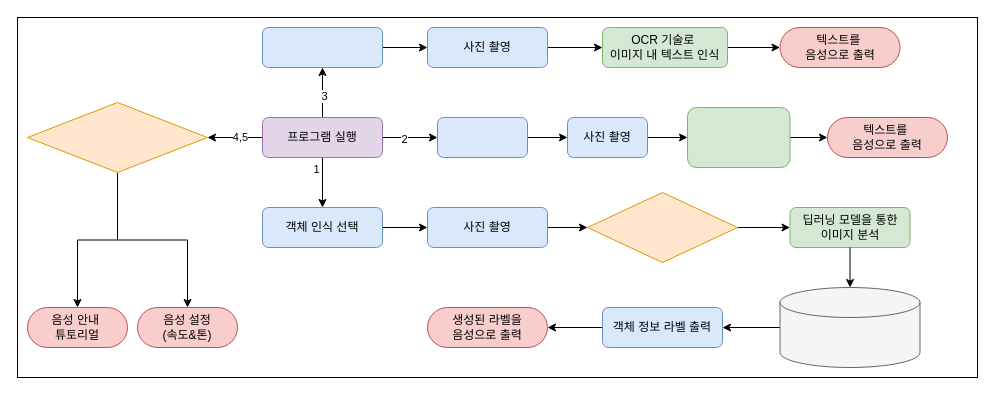
Some shapes in this 995 by 395 pixel diagram are drawn without their labels. Each missing label, with the centre of its shape:
"RGB값 파악 후 해당 색상정보 텍스트로 변환" goes at point (738, 137).
"분석된 결과를 저장된 정보와 매칭" goes at point (849, 327).
"사진 텍스트 음성 변환 선택" goes at point (322, 47).
"색상 인식 기능" goes at point (482, 137).
"음성 안내/ 음성 설정 기능 선택" goes at point (117, 137).
"이미지 확보" goes at point (662, 227).
